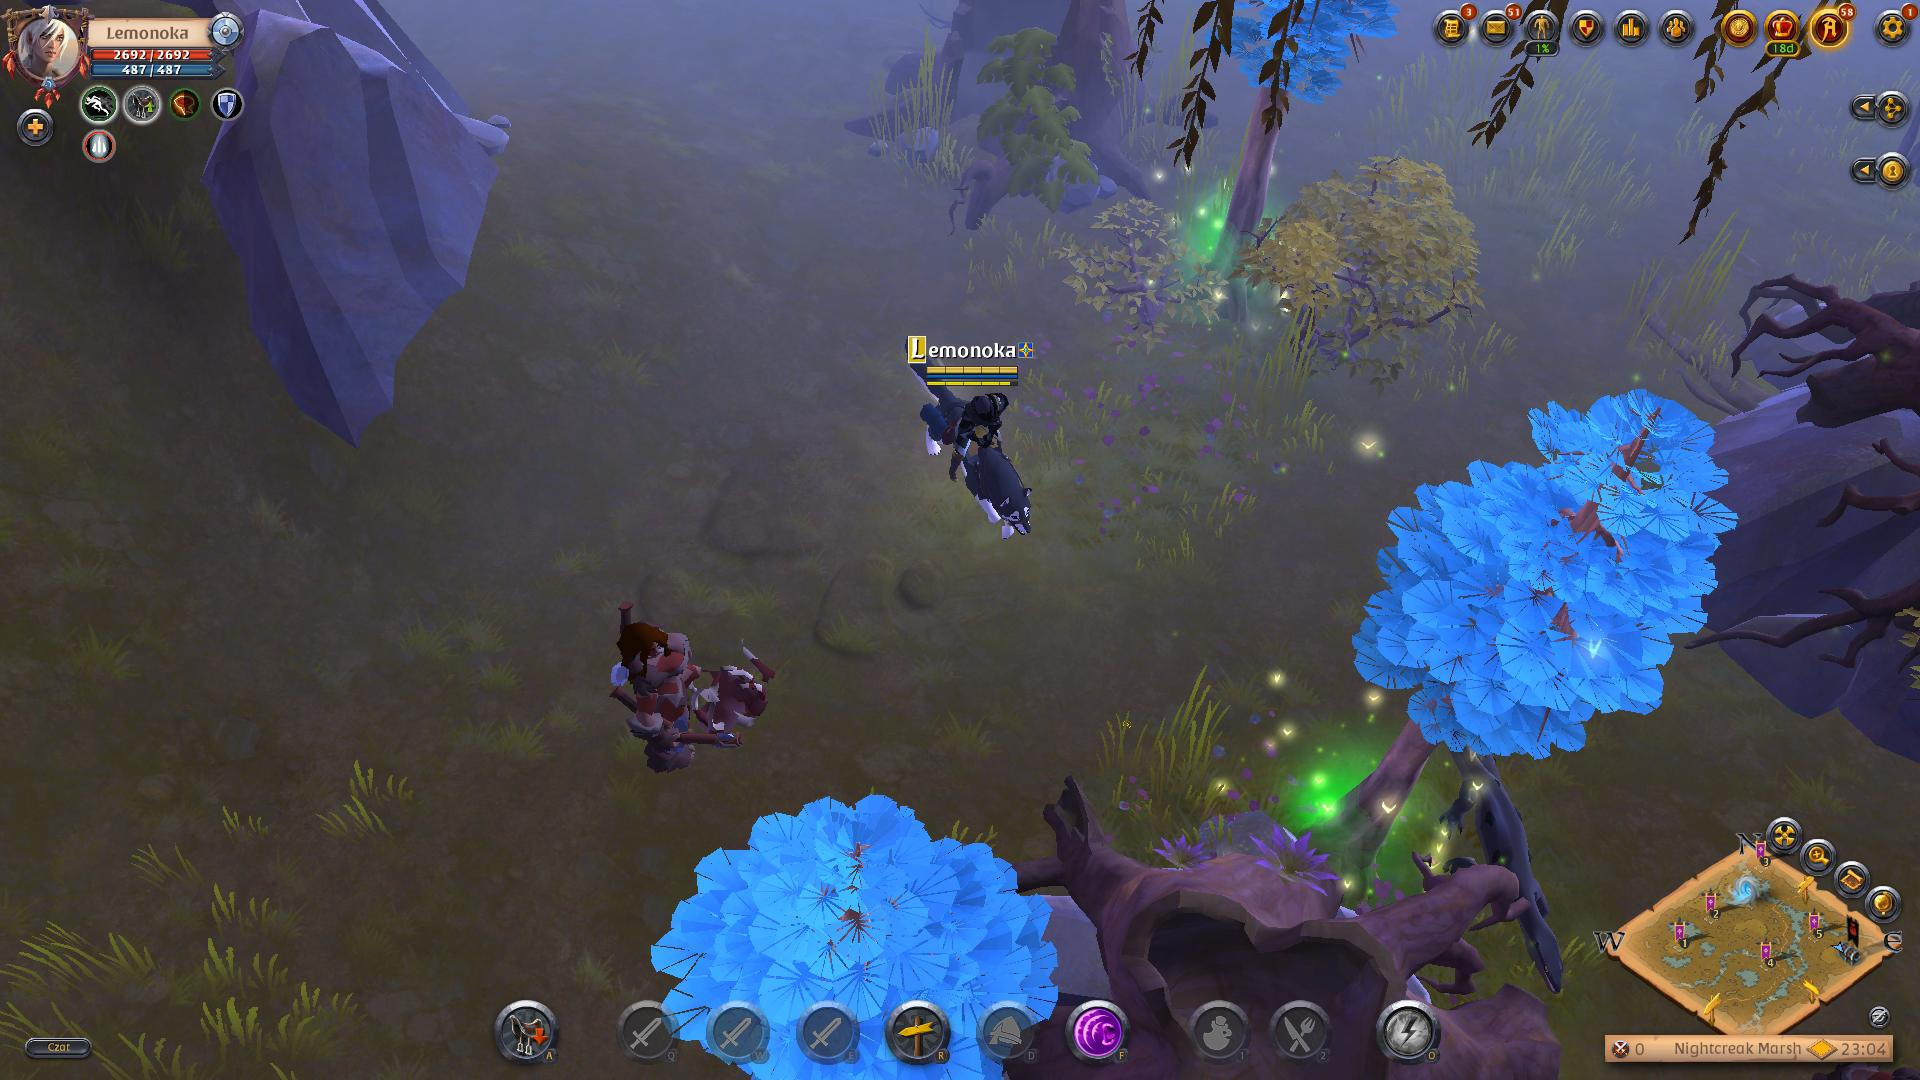wood tier 4: (1350, 381, 1747, 771)
